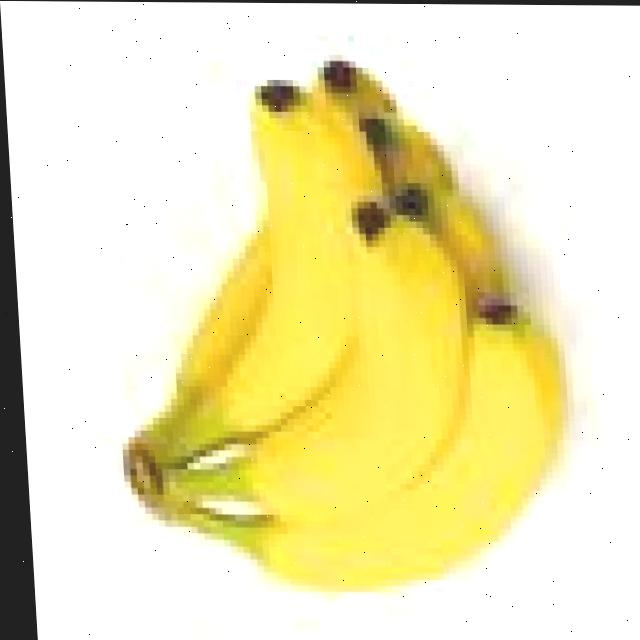banana: (93, 52, 592, 599), (242, 302, 579, 600), (230, 200, 478, 515), (191, 78, 397, 438), (395, 182, 510, 292), (352, 112, 466, 195), (304, 53, 404, 125)
